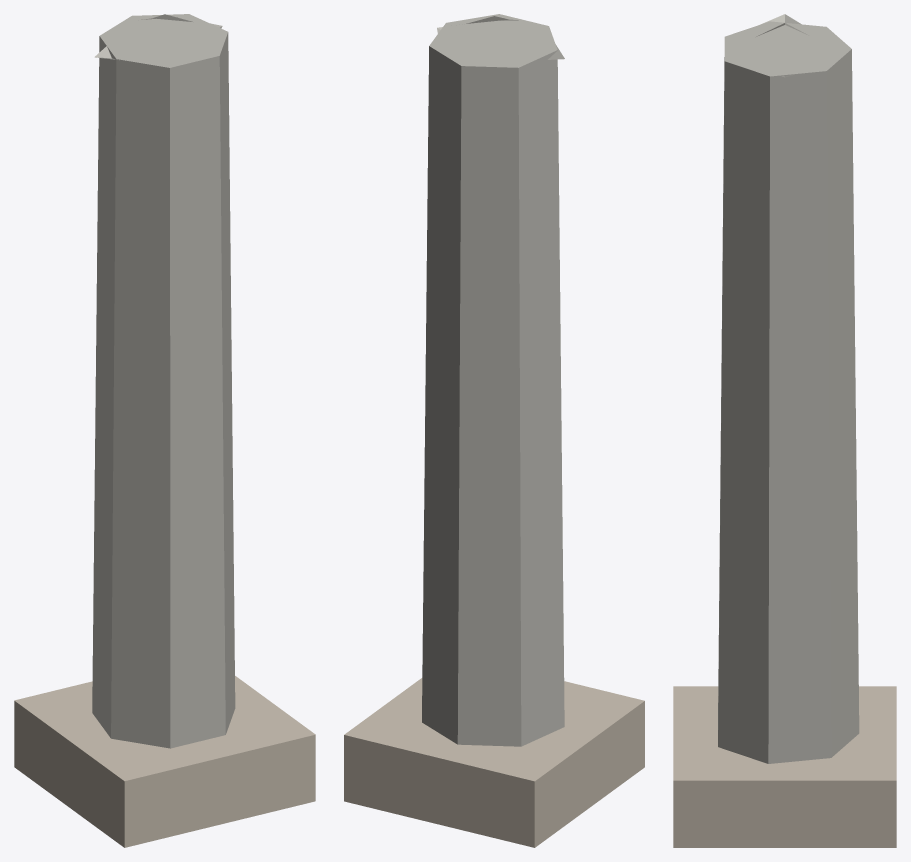
The model's file is column_v18.glb.
3 views of the same model, side by side, from view 1: azimuth 30°, elevation 25°; view 2: azimuth 150°, elevation 25°; view 3: azimuth 270°, elevation 25° (orthographic).
Parts seen in each view (by area): view 1: lod0; view 2: lod0; view 3: lod0.
Part boxes in pixels (x1,y1,x2,y2): lod0: [14, 14, 315, 847]; lod0: [344, 14, 644, 847]; lod0: [673, 14, 896, 847].
Size of what is drawn, in the model's own units: 0.48 by 1.85 by 0.48.
